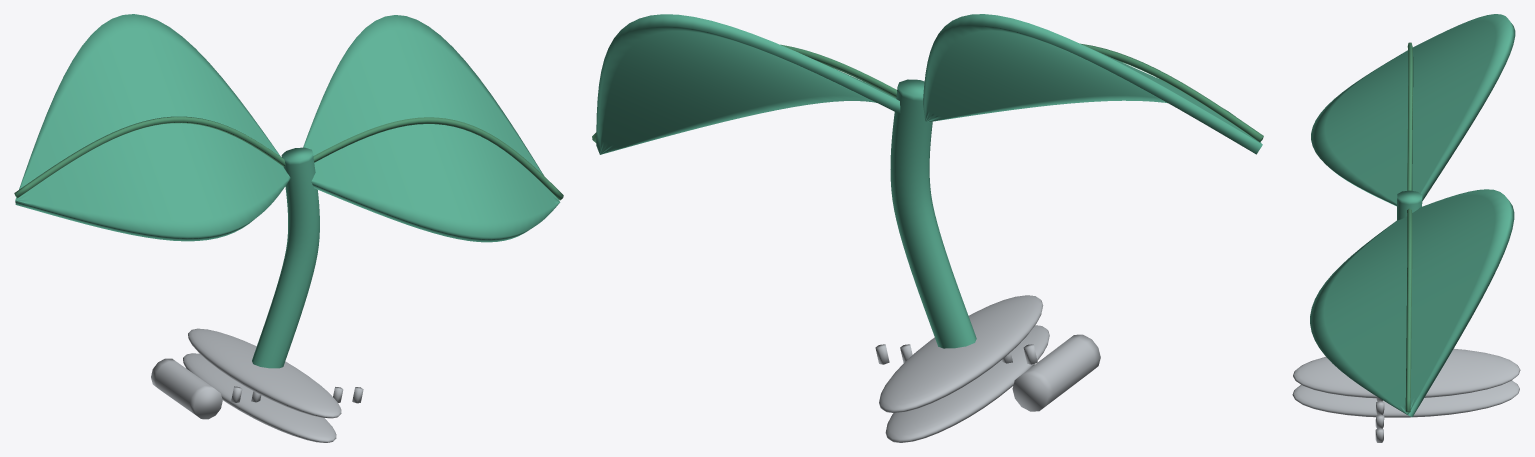
File: Masculine-curly-top-pashmina257-sprout.glb
The picture shows the model from 3 angles, left to right: view 1: azimuth 30°, elevation 25°; view 2: azimuth 150°, elevation 25°; view 3: azimuth 270°, elevation 25°; orthographic projection. The views are drawn at different scales.
Visible parts, largest first — view 1: 226 extra / Accessory / mint226, 226 extra / Sprout / clip silver235, 226 extra / Sprout / leaf vein235; view 2: 226 extra / Accessory / mint226, 226 extra / Sprout / clip silver235, 226 extra / Sprout / leaf vein235; view 3: 226 extra / Accessory / mint226, 226 extra / Sprout / clip silver235, 226 extra / Sprout / leaf vein235.
Part boxes in pixels (box(x1,y1,x2,y2)): 226 extra / Accessory / mint226: box(15, 14, 560, 368); 226 extra / Sprout / clip silver235: box(151, 328, 363, 442); 226 extra / Sprout / leaf vein235: box(14, 116, 563, 200); 226 extra / Accessory / mint226: box(596, 14, 1262, 348); 226 extra / Sprout / clip silver235: box(875, 295, 1100, 442); 226 extra / Sprout / leaf vein235: box(592, 43, 1263, 142); 226 extra / Accessory / mint226: box(1310, 14, 1515, 417); 226 extra / Sprout / clip silver235: box(1292, 348, 1520, 442); 226 extra / Sprout / leaf vein235: box(1405, 42, 1413, 412).
Size of the model in its own units: 0.2645 by 0.1733 by 0.104.
